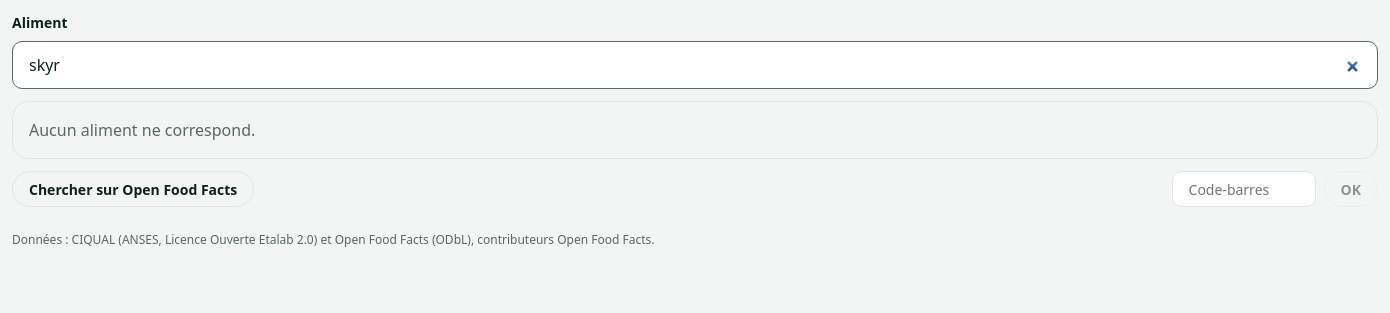
Test: FoodPicker › explains when Open Food Facts is busy
Click the button "Chercher sur Open Food Facts": point(133, 189) [12, 171, 254, 207]
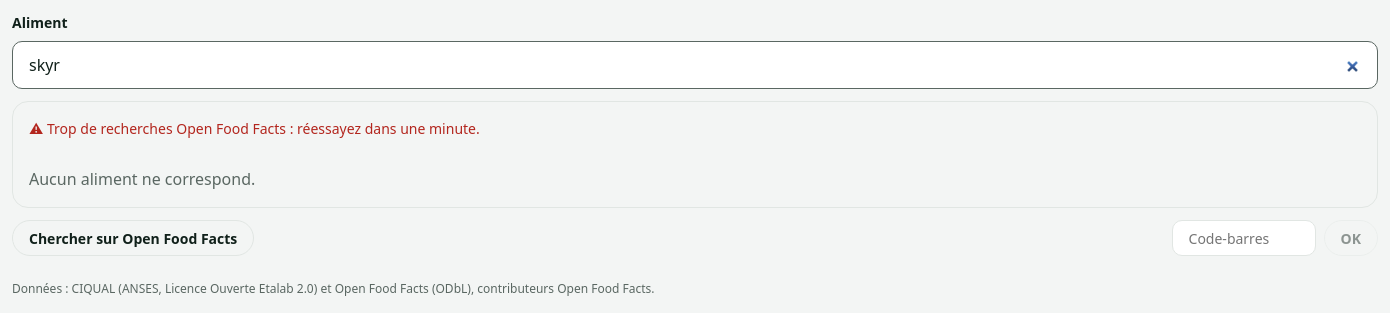
Expected: the message shows "réessayez dans une minute", [47, 119, 480, 138]
